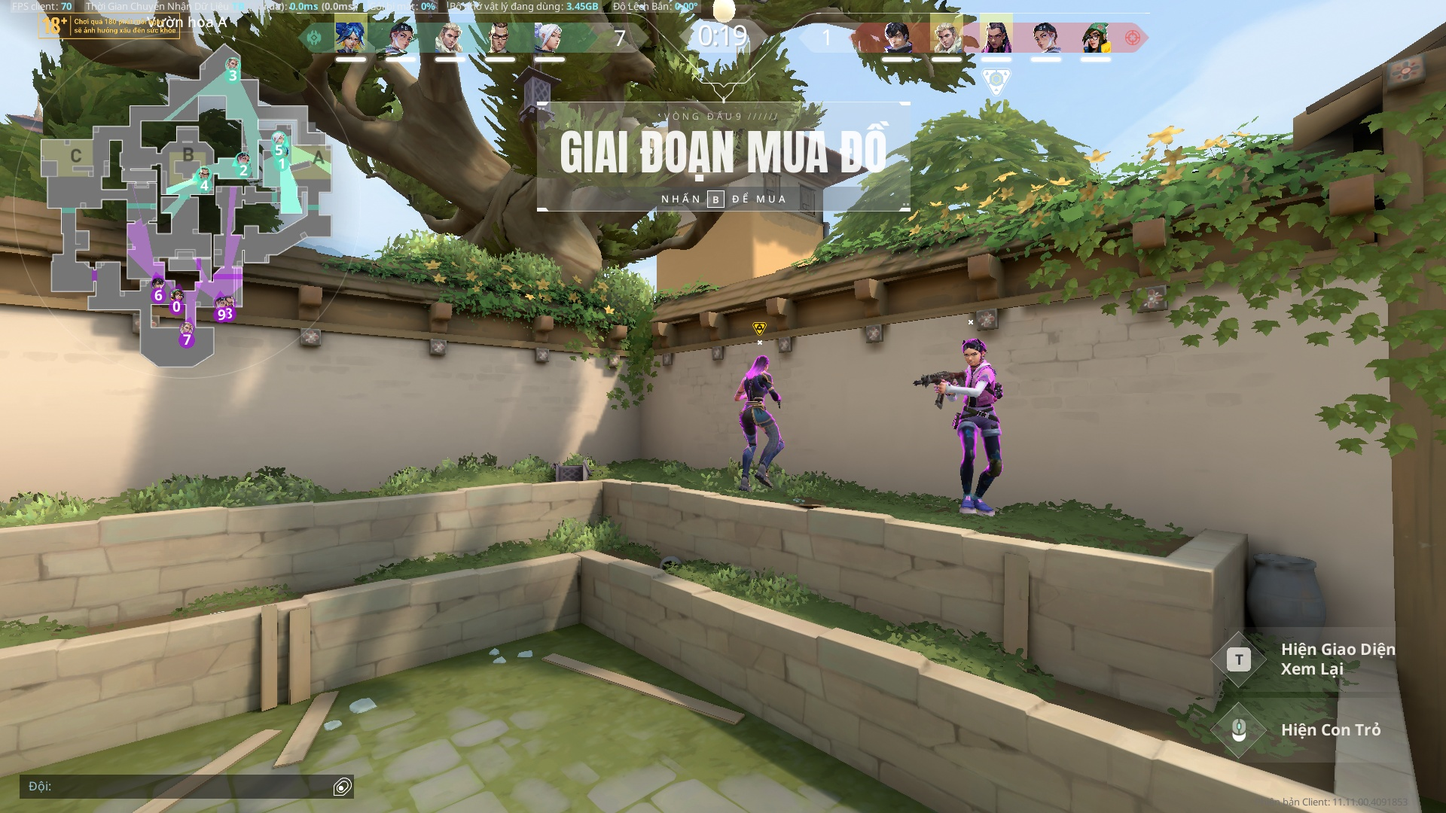body: (962, 363, 997, 406), (740, 370, 774, 405)
head: (961, 339, 988, 368), (755, 355, 770, 372)
